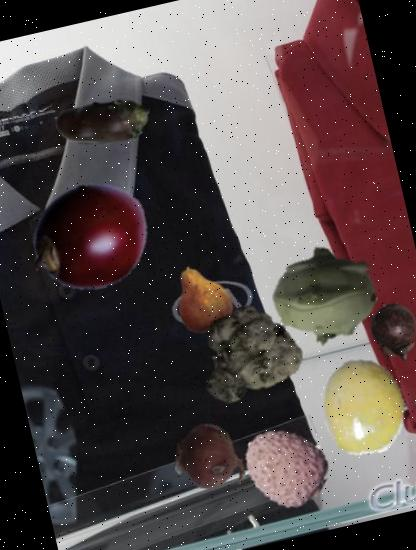Cauliflower: (183, 297, 308, 421)
Eggplant: (44, 64, 162, 181)
Kohlrabi: (262, 233, 388, 360)
Lychee: (233, 416, 336, 518)
Mangostan: (359, 297, 416, 369)
Maracuja: (305, 349, 416, 465)
Onion: (169, 414, 254, 499)
Pear: (158, 257, 244, 342)
Tamarillo: (18, 164, 162, 308)
